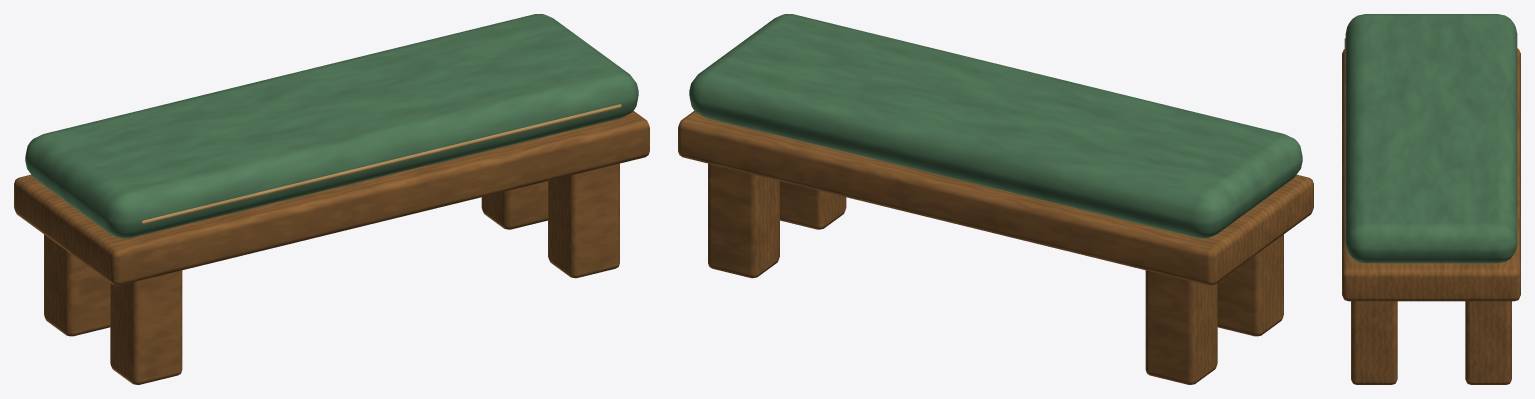
Rendered from Furn_Bench.fbx.
3 views of the same model, side by side, from view 1: azimuth 30°, elevation 25°; view 2: azimuth 150°, elevation 25°; view 3: azimuth 270°, elevation 25° (orthographic). The views are drawn at different scales.
Parts seen in each view (by area): view 1: Furn_Bench_Mesh; view 2: Furn_Bench_Mesh; view 3: Furn_Bench_Mesh.
Part boxes in pixels (left/top/right/bottom): Furn_Bench_Mesh: left=14, top=14, right=649, bottom=384; Furn_Bench_Mesh: left=678, top=14, right=1313, bottom=384; Furn_Bench_Mesh: left=1342, top=14, right=1520, bottom=384.
Size of the model in its own units: 1.5 by 0.51 by 0.5.
Materials: 3 (3 with a texture image).
